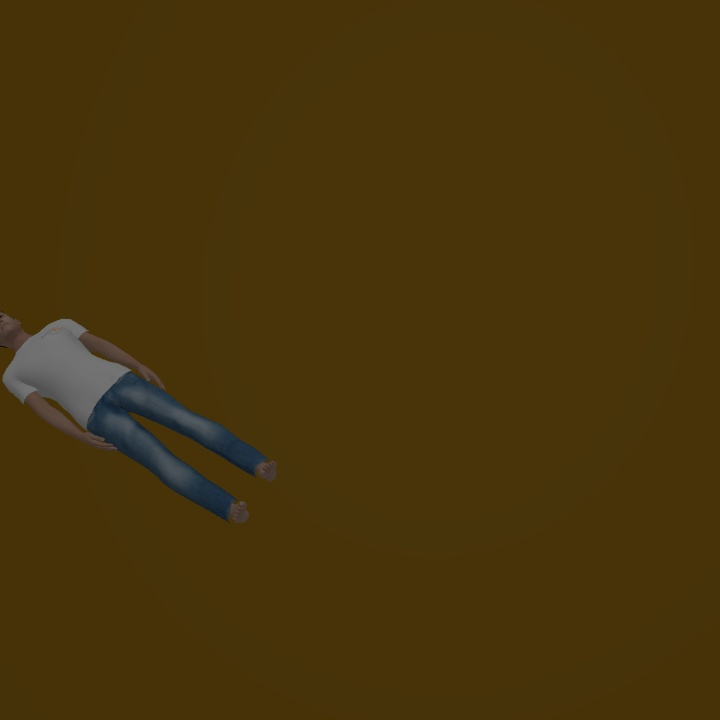victim: (1, 312, 279, 522)
